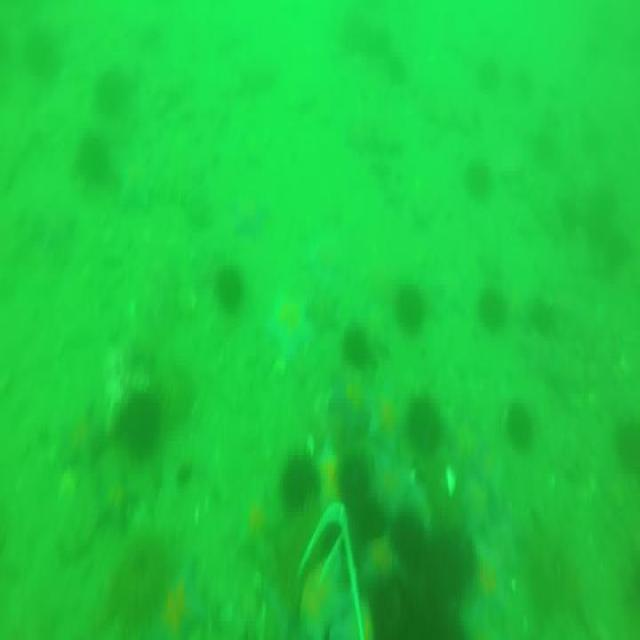echinus: (369, 578, 427, 640), (429, 528, 472, 605), (388, 517, 428, 586), (120, 398, 159, 457), (77, 133, 113, 188), (423, 590, 466, 636), (283, 455, 319, 509), (463, 152, 495, 208), (392, 283, 423, 335), (409, 395, 443, 438), (611, 420, 640, 470), (96, 71, 132, 111), (342, 462, 373, 508), (506, 395, 530, 449), (476, 288, 506, 330), (215, 272, 245, 311), (530, 292, 556, 334), (341, 324, 367, 365)
scallop: (446, 464, 458, 500)
starfish: (479, 506, 524, 594), (306, 224, 359, 296), (268, 291, 318, 360), (167, 558, 206, 640), (368, 365, 405, 441), (466, 441, 508, 506), (328, 371, 372, 430), (374, 431, 402, 501), (394, 469, 425, 531), (230, 192, 271, 238)
